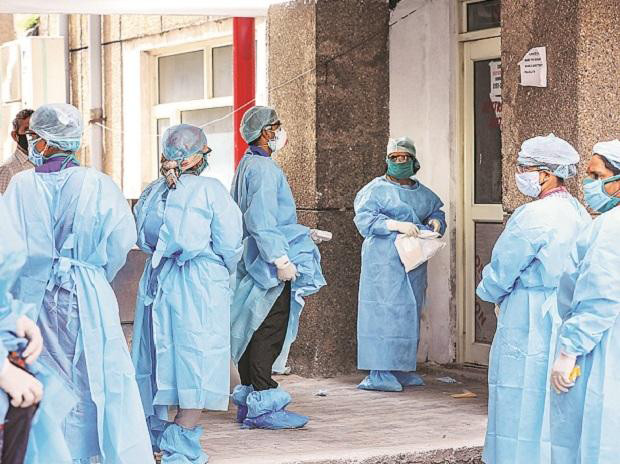Coverall: (12, 104, 136, 464), (475, 182, 589, 464), (134, 162, 238, 438), (348, 172, 446, 373), (237, 153, 308, 404), (560, 211, 620, 464)
Gloves: (1, 362, 50, 411), (14, 308, 54, 365), (548, 353, 583, 397), (271, 255, 298, 285), (386, 218, 422, 240)
Mask: (580, 178, 620, 214), (511, 170, 547, 200), (384, 159, 416, 182)
